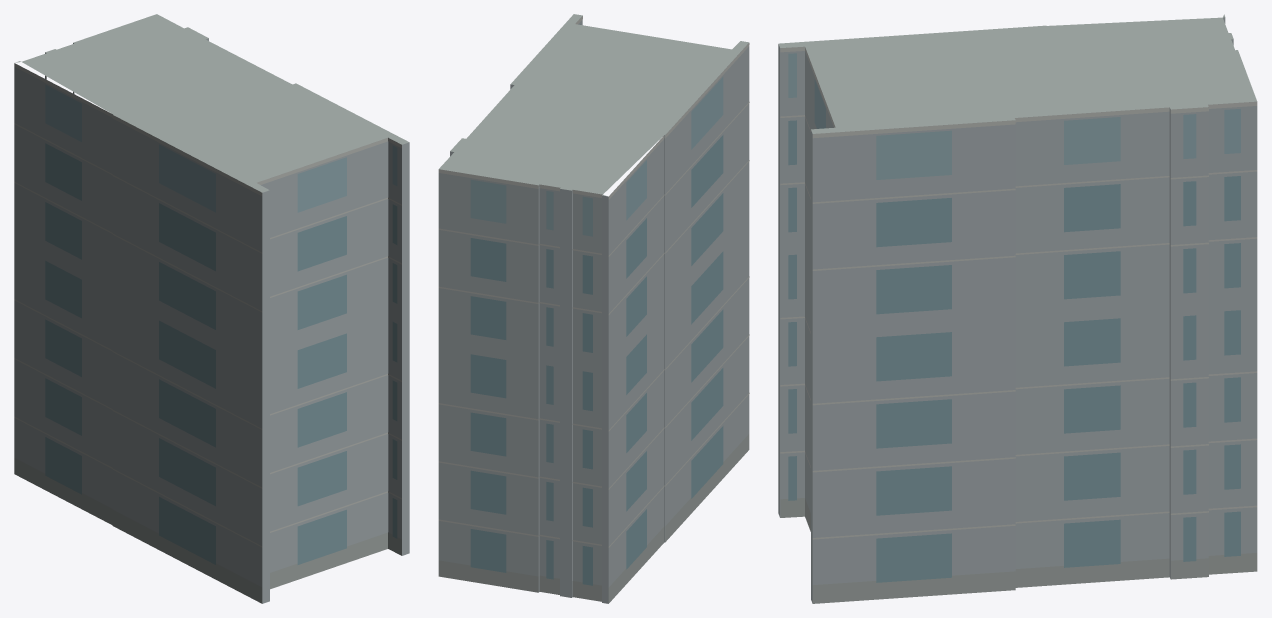
File: survey-upis-32992374.glb
The picture shows the model from 3 angles, left to right: view 1: azimuth 30°, elevation 25°; view 2: azimuth 150°, elevation 25°; view 3: azimuth 270°, elevation 25°; orthographic projection. The views are drawn at different scales.
Parts seen in each view (by area): view 1: survey-upis-32992374.tmp; view 2: survey-upis-32992374.tmp; view 3: survey-upis-32992374.tmp.
Part boxes in pixels (x1,y1,x2,y2): survey-upis-32992374.tmp: (14, 14, 409, 603); survey-upis-32992374.tmp: (438, 14, 749, 603); survey-upis-32992374.tmp: (778, 14, 1257, 603).
Size of the model in its own units: 14.81 by 27 by 24.96.
